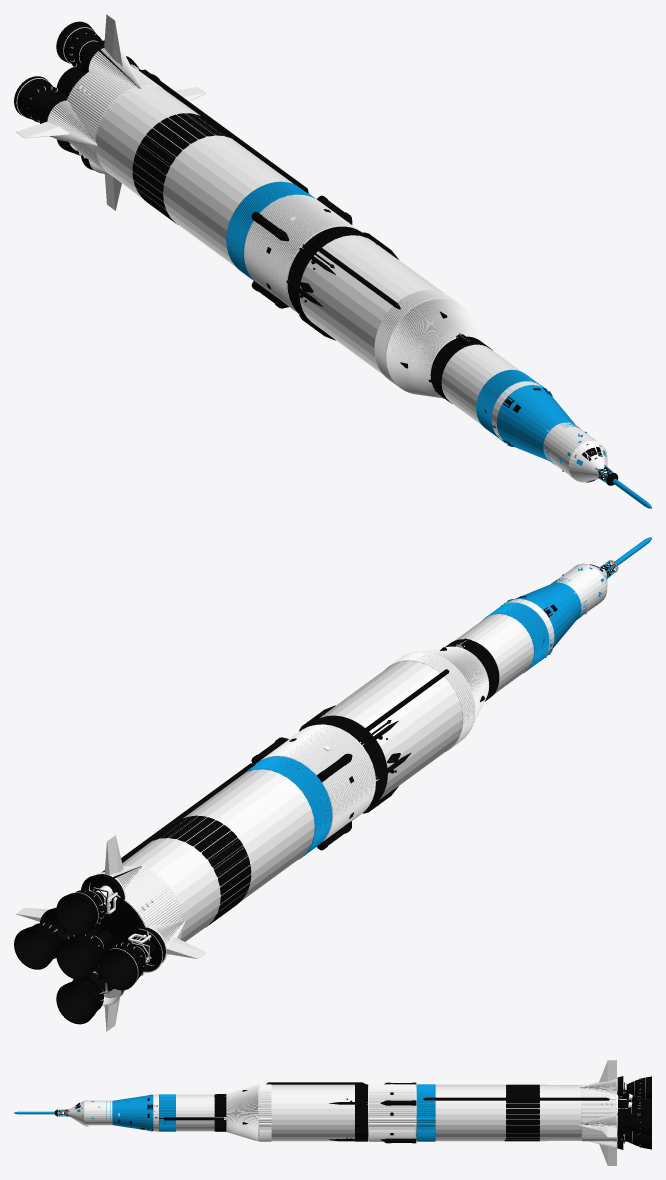
The model's file is rocket.obj.
3 renders of one model, top to bottom at view 1: azimuth 30°, elevation 25°; view 2: azimuth 150°, elevation 25°; view 3: azimuth 270°, elevation 25°, orthographic. The views are drawn at different scales.
Visible parts, largest first — view 1: Object.1; view 2: Object.1; view 3: Object.1.
Boxes of the visible parts, x1=… form: Object.1: x1=14, y1=14, x2=651, y2=508; Object.1: x1=14, y1=537, x2=651, y2=1031; Object.1: x1=14, y1=1060, x2=651, y2=1165.
Size of the model in its own units: 3826 by 3826 by 20978.
